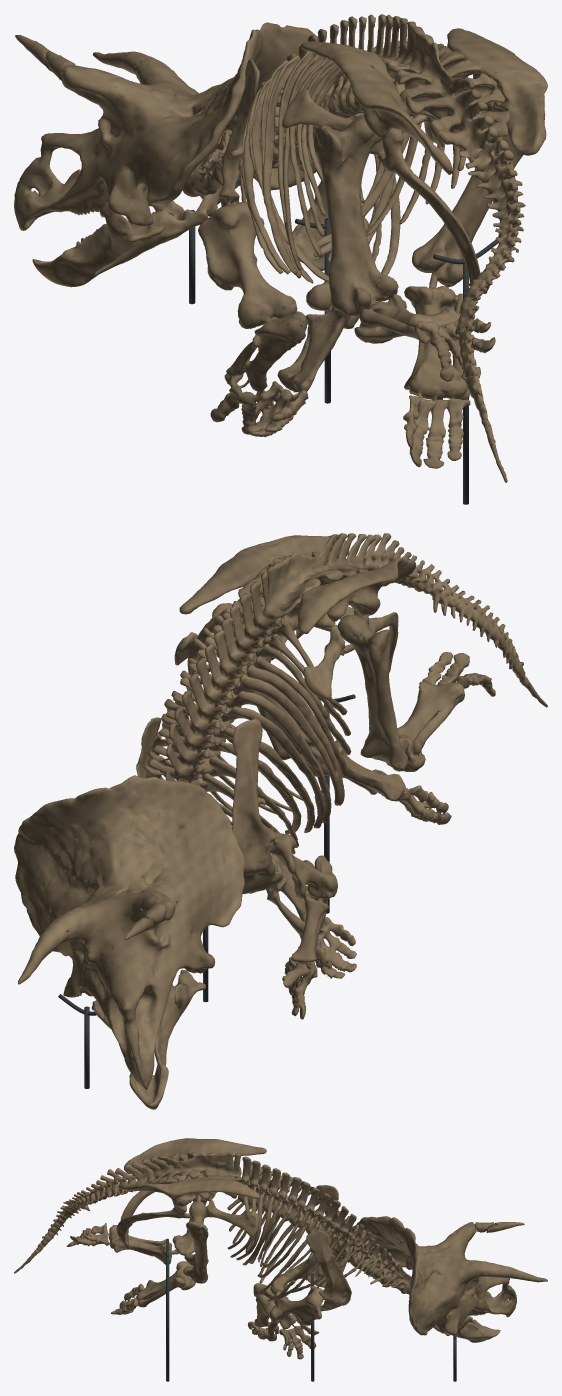
The picture shows the model from 3 angles, top to bottom: view 1: azimuth 30°, elevation 25°; view 2: azimuth 150°, elevation 25°; view 3: azimuth 270°, elevation 25°; orthographic projection. The views are drawn at different scales.
Parts seen in each view (by area): view 1: F01_SPEC_Fossil ridge.001_export, F01_SPEC_Mount steel.001_export; view 2: F01_SPEC_Fossil ridge.001_export, F01_SPEC_Mount steel.001_export; view 3: F01_SPEC_Fossil ridge.001_export, F01_SPEC_Mount steel.001_export.
Boxes of the visible parts, left/top/right/bottom form: F01_SPEC_Fossil ridge.001_export: left=14, top=14, right=547, bottom=482; F01_SPEC_Mount steel.001_export: left=160, top=202, right=498, bottom=504; F01_SPEC_Fossil ridge.001_export: left=14, top=533, right=547, bottom=1109; F01_SPEC_Mount steel.001_export: left=58, top=694, right=355, bottom=1088; F01_SPEC_Fossil ridge.001_export: left=14, top=1138, right=547, bottom=1359; F01_SPEC_Mount steel.001_export: left=166, top=1238, right=456, bottom=1381.
Size of the model in its own units: 1.66 by 2.8 by 5.89.
